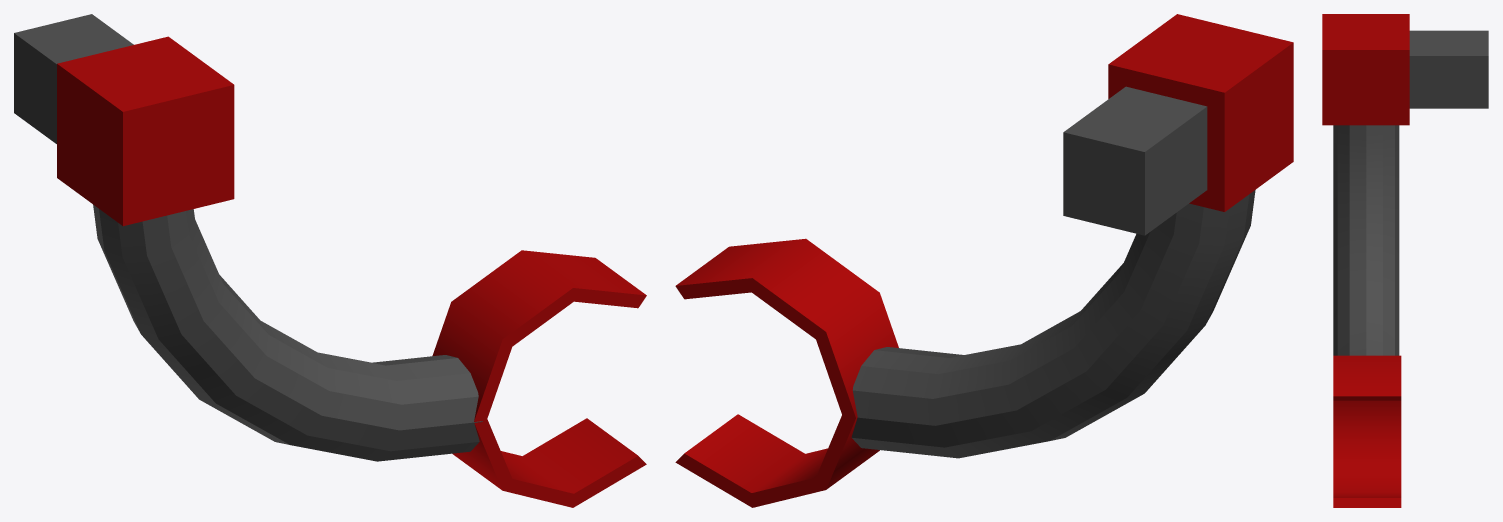
The model's file is bot_rightarm.fbx.
The picture shows the model from 3 angles, left to right: view 1: azimuth 30°, elevation 25°; view 2: azimuth 150°, elevation 25°; view 3: azimuth 270°, elevation 25°; orthographic projection. The views are drawn at different scales.
Visible parts, largest first — view 1: pCube7; view 2: pCube7; view 3: pCube7.
Boxes of the visible parts, x1,y1,x2,y2 form: pCube7: (14, 14, 646, 507); pCube7: (675, 14, 1293, 507); pCube7: (1322, 14, 1488, 507).
Size of the model in its own units: 2.4 by 2.22 by 0.9822.
